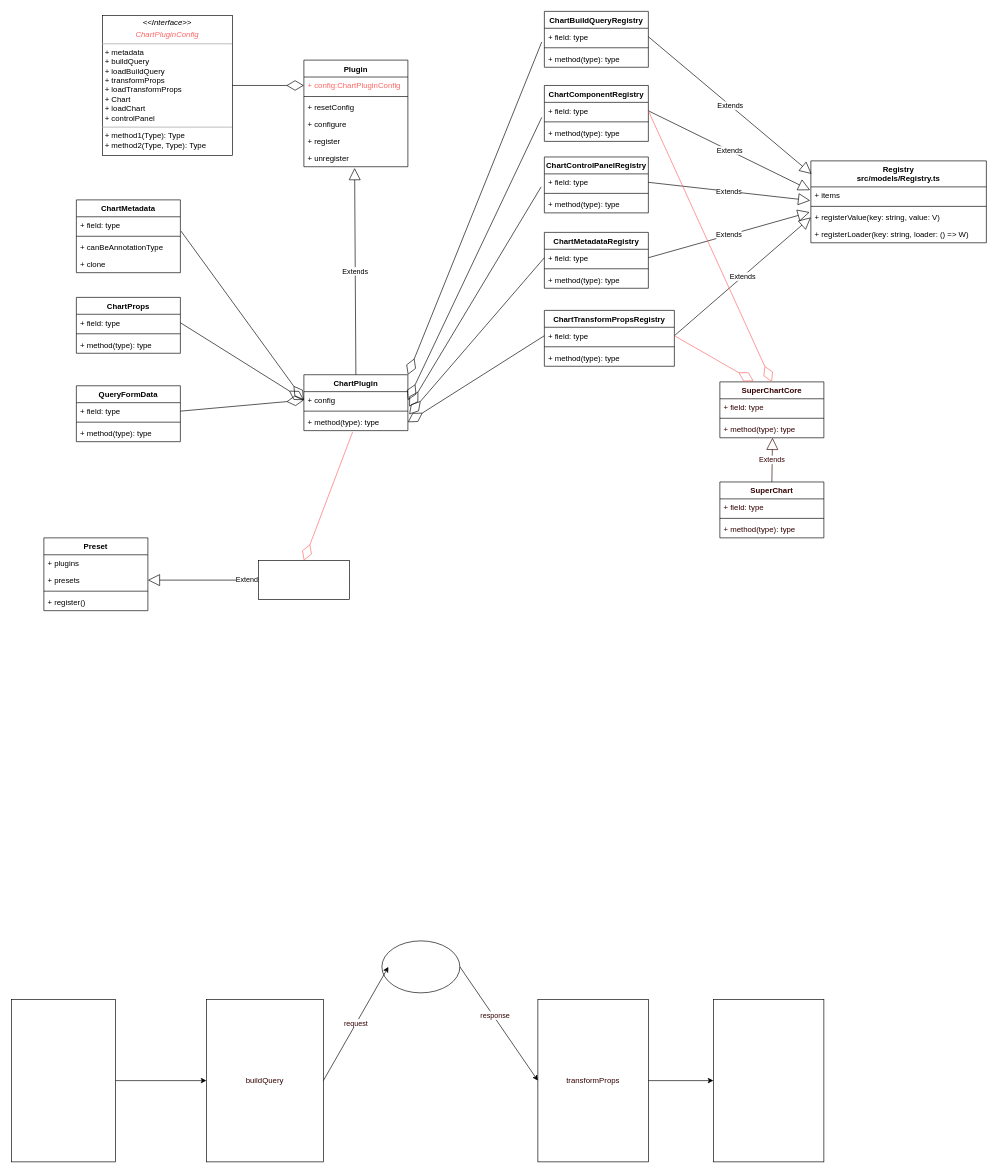
The diagram is 998 pixels wide and 1173 high, and some of its shapes have lost their labels. The centre of each missing label's shape, as x and y in pixels:
api: point (420, 966)
Chart: point (768, 1080)
controlPanel: point (63, 1080)
MainPreset 管理ChartPlugins: point (303, 580)
